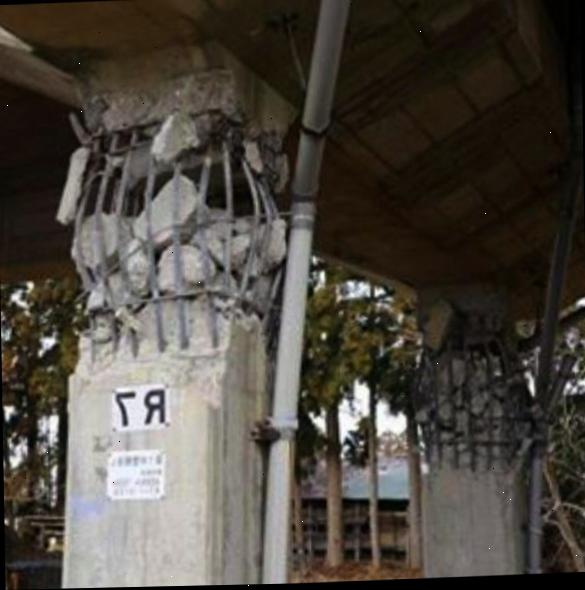spalling: (55, 68, 532, 488)
